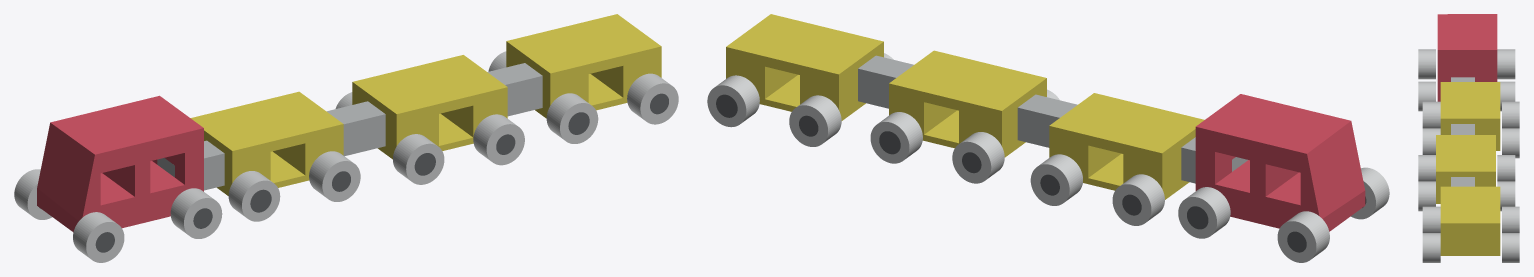
The model's file is Project 150.glb.
3 views of the same model, side by side, from view 1: azimuth 30°, elevation 25°; view 2: azimuth 150°, elevation 25°; view 3: azimuth 270°, elevation 25° (orthographic). The views are drawn at different scales.
Parts seen in each view (by area): view 1: Mesh_Mesh_head_geo.001_lambert2SG.001; view 2: Mesh_Mesh_head_geo.001_lambert2SG.001; view 3: Mesh_Mesh_head_geo.001_lambert2SG.001.
Boxes of the visible parts, bbox=[...] form: Mesh_Mesh_head_geo.001_lambert2SG.001: bbox=[14, 14, 678, 262]; Mesh_Mesh_head_geo.001_lambert2SG.001: bbox=[707, 14, 1389, 262]; Mesh_Mesh_head_geo.001_lambert2SG.001: bbox=[1418, 14, 1519, 262].
Size of the model in its own units: 156 by 24 by 34.
